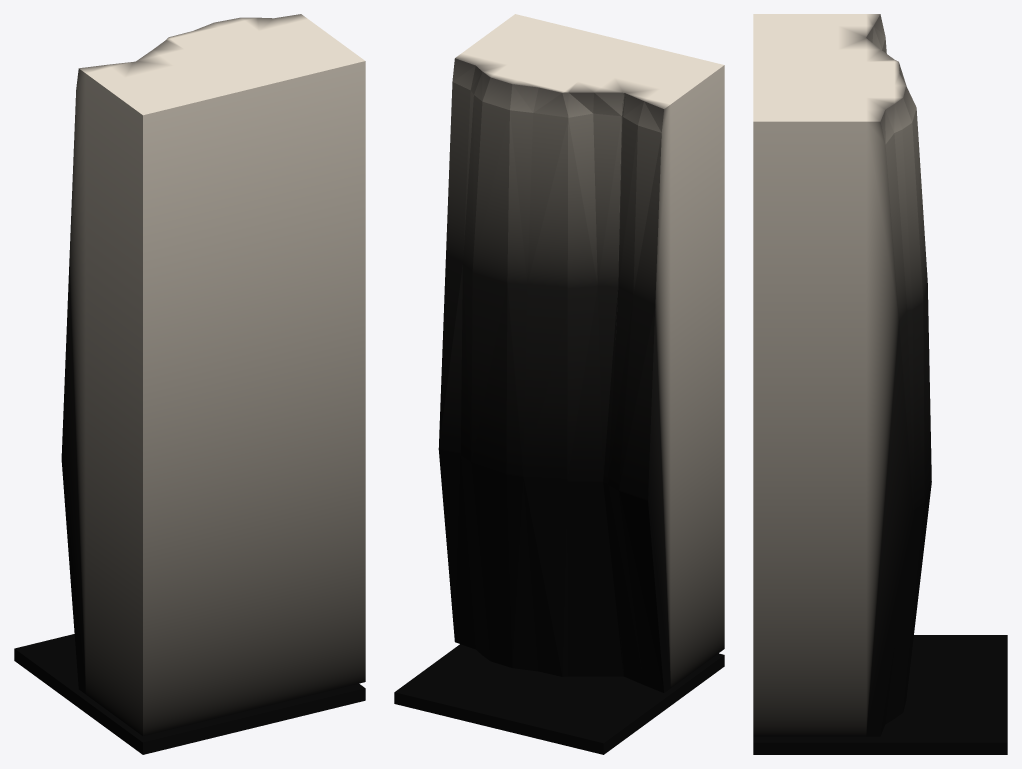
Rendered from SM_VKI_Ground_Cave_OOXX_Q01.fbx.
3 views of the same model, side by side, from view 1: azimuth 30°, elevation 25°; view 2: azimuth 150°, elevation 25°; view 3: azimuth 270°, elevation 25° (orthographic). The views are drawn at different scales.
Parts seen in each view (by area): view 1: SM_VKI_Ground_Cave_OOXX_Q01.001; view 2: SM_VKI_Ground_Cave_OOXX_Q01.001; view 3: SM_VKI_Ground_Cave_OOXX_Q01.001.
Boxes of the visible parts, x1,y1,x2,y2 form: SM_VKI_Ground_Cave_OOXX_Q01.001: (14,14,365,754); SM_VKI_Ground_Cave_OOXX_Q01.001: (394,14,724,754); SM_VKI_Ground_Cave_OOXX_Q01.001: (753,14,1007,754).
Bounding box in the file's own units: 1.5 × 4.12 × 1.5.
